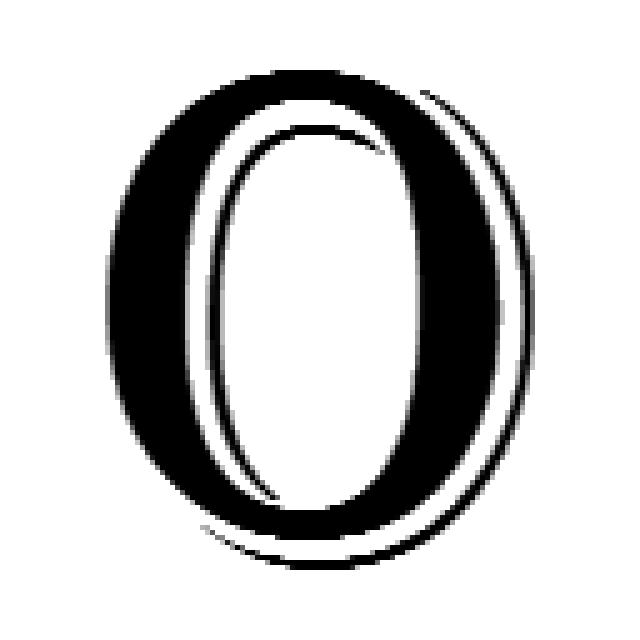O: (105, 70, 540, 575)
